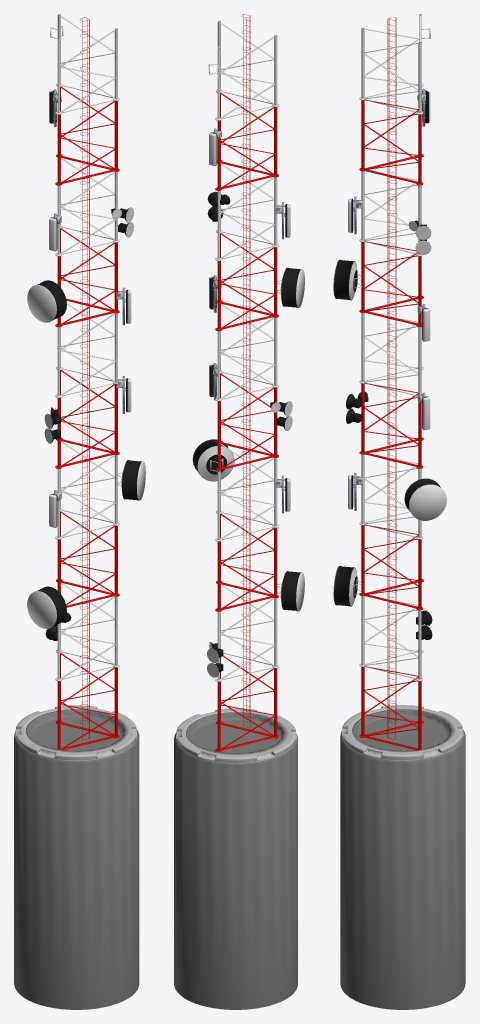
The model's file is radio-tower_02.glb.
The picture shows the model from 3 angles, left to right: view 1: azimuth 30°, elevation 25°; view 2: azimuth 150°, elevation 25°; view 3: azimuth 330°, elevation 25°; orthographic projection.
Visible parts, largest first — view 1: KB11, o_radiotower_02, KB6; view 2: KB11, o_radiotower_02, KB6; view 3: KB11, o_radiotower_02, KB6.
Boxes of the visible parts, x1,y1,x2,y2 form: KB11: (14,709,139,1009); o_radiotower_02: (27,14,145,749); KB6: (15,705,137,761); KB11: (174,712,297,1009); o_radiotower_02: (192,14,304,751); KB6: (176,708,296,763); KB11: (340,709,465,1009); o_radiotower_02: (333,14,446,749); KB6: (341,705,463,761).
Size of the model in its own units: 0.9039 by 7.49 by 0.8754.
